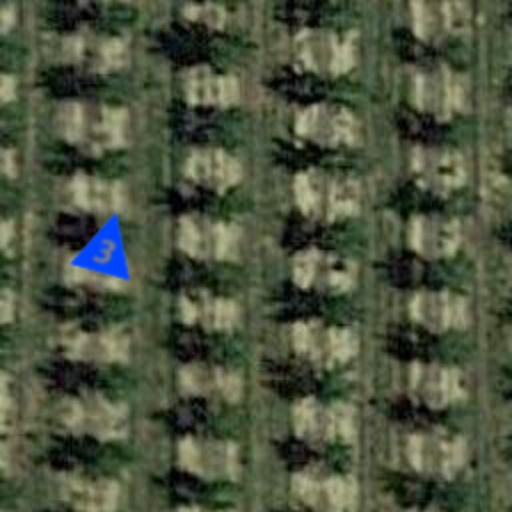triangle: (68, 202, 148, 282)
